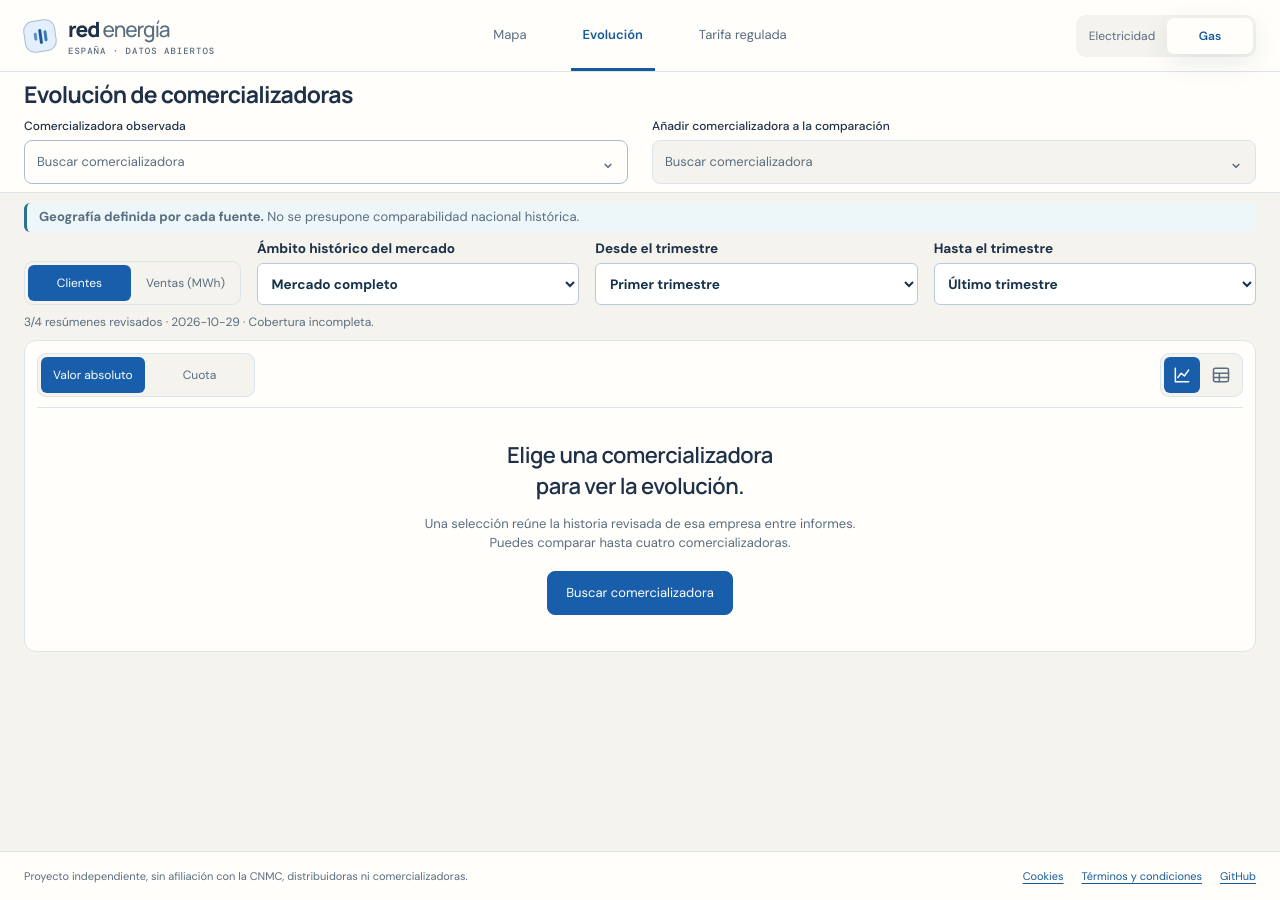
Test: gas evolution › does not reuse a cached document catalogue from the previous frontend contract
The width and height of the screenshot is (1280, 900).
Focus the dropdown labelled "Comercializadora observada" at [326, 162], box [24,140,628,184]
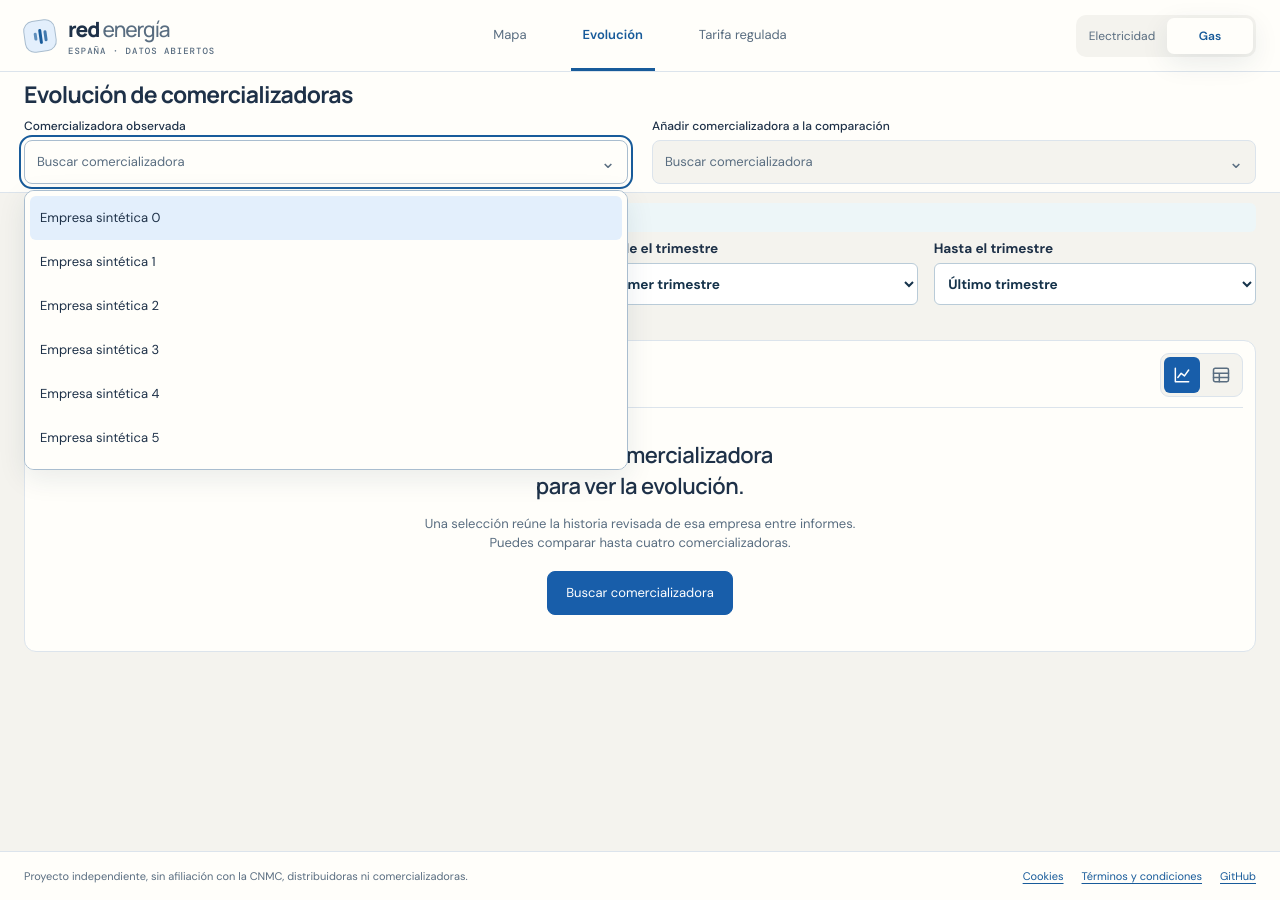
Expected: the option "Empresa sintética 0" is shown, [30,196,622,240]
